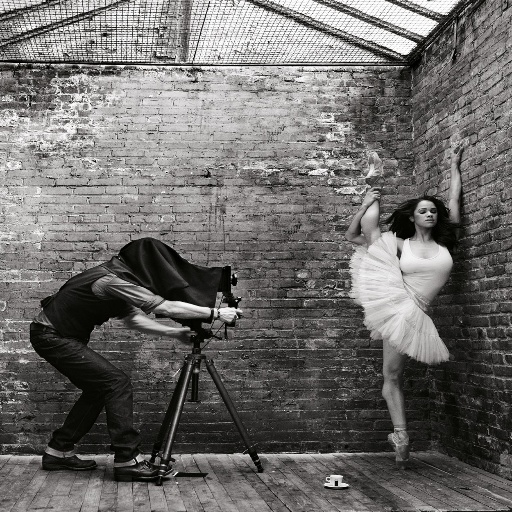hand: (173, 326, 198, 347), (360, 184, 383, 206), (219, 305, 244, 325), (447, 136, 464, 163)
